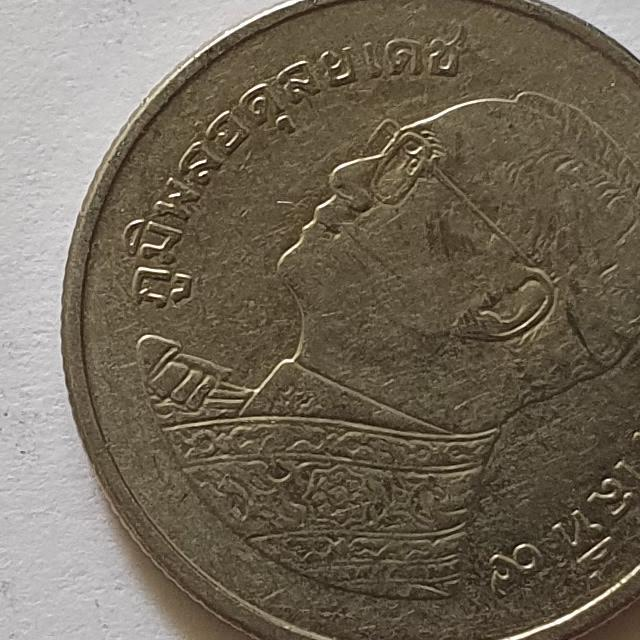1 Bath: (55, 1, 640, 640)
